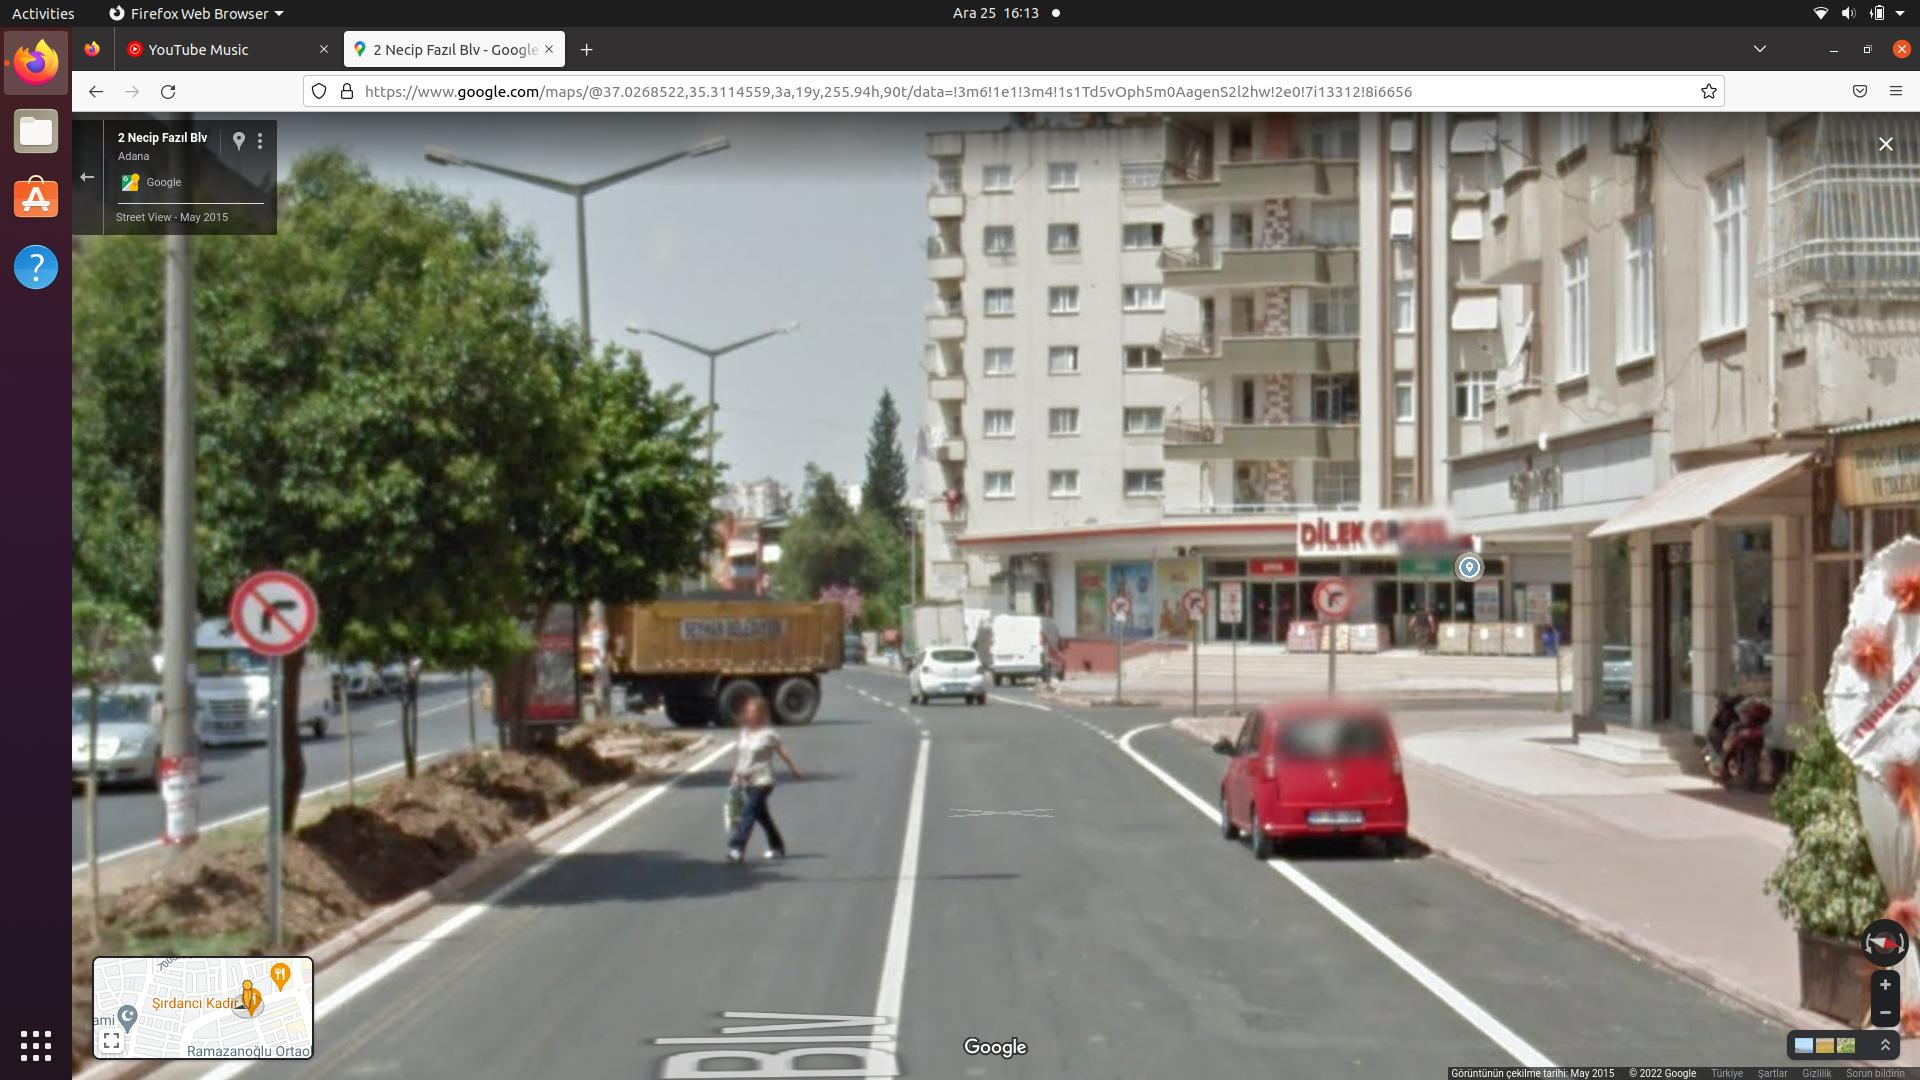rightturnsareforbidden: (229, 576, 313, 654), (1315, 580, 1352, 613), (1185, 591, 1208, 615), (1112, 597, 1131, 617)
